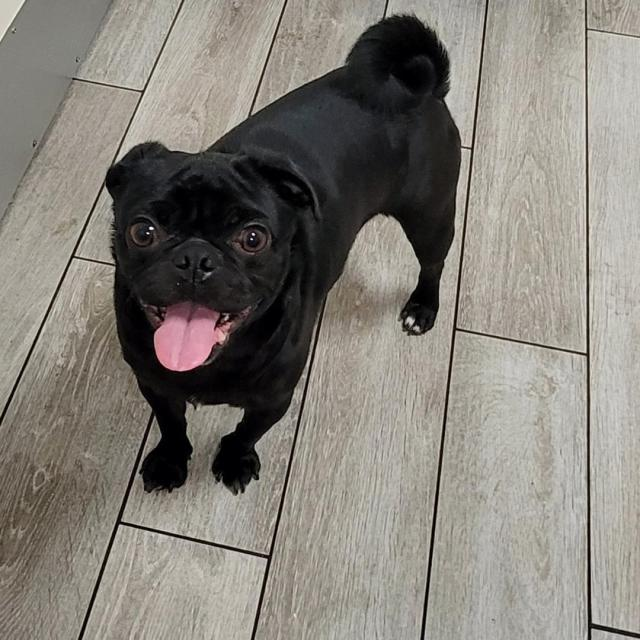pug_dog: (101, 133, 327, 386)
